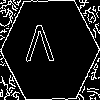V: (25, 25, 55, 71)
